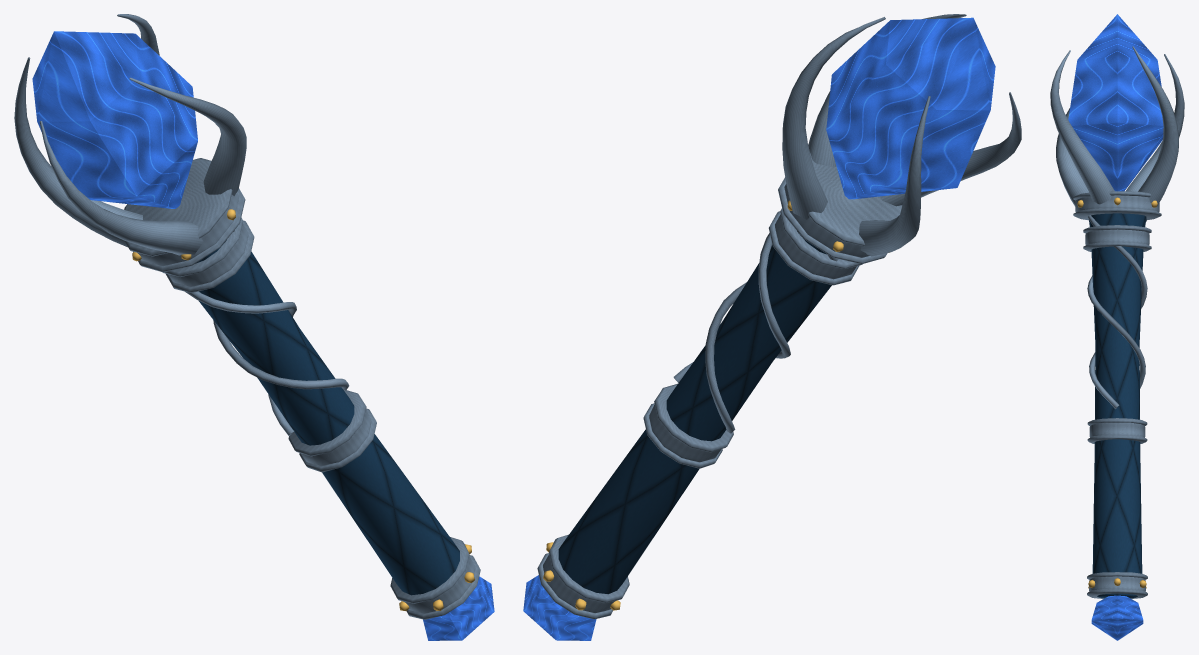
File: ice_rod.glb
The picture shows the model from 3 angles, left to right: view 1: azimuth 30°, elevation 25°; view 2: azimuth 150°, elevation 25°; view 3: azimuth 270°, elevation 25°; orthographic projection. The views are drawn at different scales.
Visible parts, largest first — view 1: Faceted ice focus, Wrapped shaft, Crown talon (×3), Collar edge (×7), Engraved collar (×4), Winding metal inlay (×2), Pommel; view 2: Faceted ice focus, Wrapped shaft, Crown talon (×4), Collar edge (×7), Engraved collar (×4), Winding metal inlay (×2), Pommel; view 3: Wrapped shaft, Faceted ice focus, Crown talon (×4), Collar edge (×8), Engraved collar (×4), Pommel, Winding metal inlay (×2).
Part boxes in pixels (x1,y1,x2,y2): Faceted ice focus: (32,31,197,208); Wrapped shaft: (195,240,459,595); Crown talon (×3): (14,57,246,255); Collar edge (×7): (124,158,469,603); Engraved collar (×4): (137,192,475,613); Winding metal inlay (×2): (185,230,349,435); Pommel: (423,576,494,640); Faceted ice focus: (826,17,995,199); Wrapped shaft: (558,231,831,594); Crown talon (×4): (782,14,1021,256); Collar edge (×7): (549,153,902,602); Engraved collar (×4): (543,184,869,613); Winding metal inlay (×2): (673,233,838,433); Pommel: (523,575,596,640); Wrapped shaft: (1089,213,1146,598); Faceted ice focus: (1068,14,1163,191); Crown talon (×4): (1050,46,1184,206); Collar edge (×8): (1073,191,1161,598); Engraved collar (×4): (1075,195,1159,591); Pommel: (1091,595,1143,640); Winding metal inlay (×2): (1087,215,1147,408).
Bounding box in the file's own units: 267 × 387 × 97.
4 materials, 4 textured.
